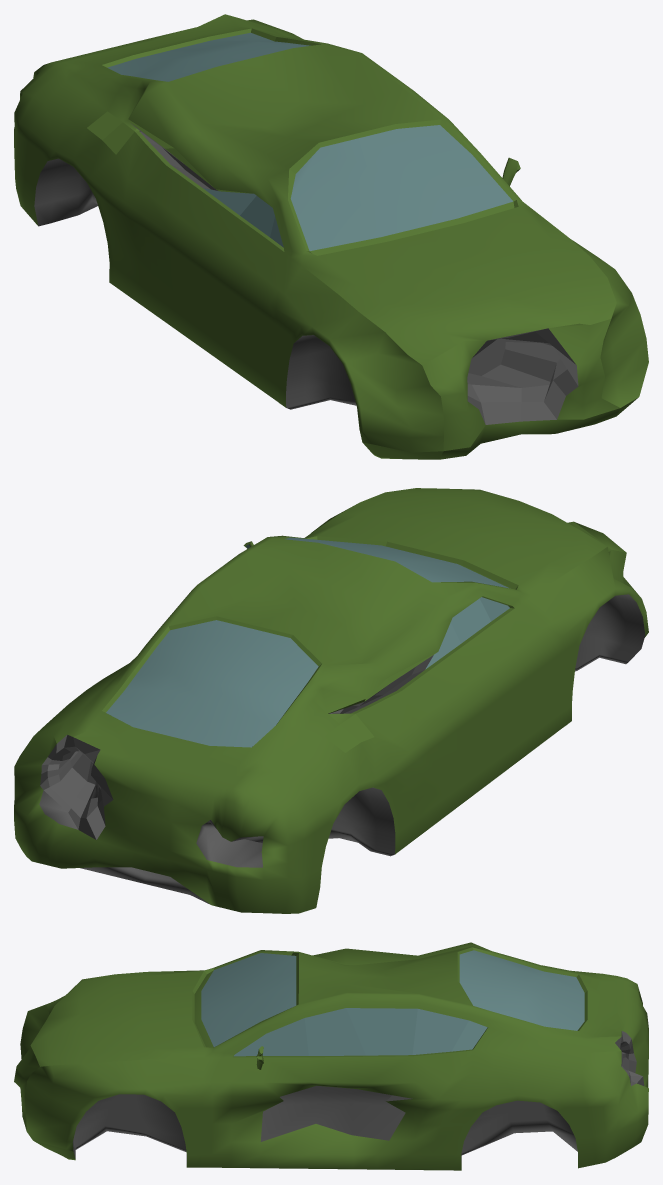
File: Auto_2.fbx
3 renders of one model, top to bottom at view 1: azimuth 30°, elevation 25°; view 2: azimuth 150°, elevation 25°; view 3: azimuth 270°, elevation 25°, orthographic. The views are drawn at different scales.
Visible parts, largest first — view 1: Auto_3; view 2: Auto_3; view 3: Auto_3.
Boxes of the visible parts, box(x1,y1,x2,y2) form: Auto_3: box(14, 14, 648, 459); Auto_3: box(14, 488, 648, 913); Auto_3: box(14, 942, 648, 1170).
Bounding box in the file's own units: 188 × 124 × 461.
